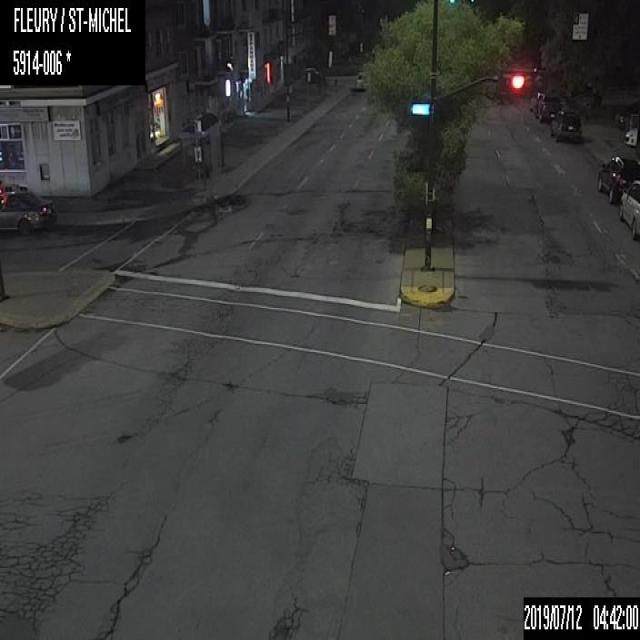vehicle: (0, 190, 55, 234), (596, 154, 638, 205), (618, 178, 639, 240), (549, 107, 581, 141), (534, 90, 559, 123), (623, 113, 639, 148), (354, 70, 367, 90)
